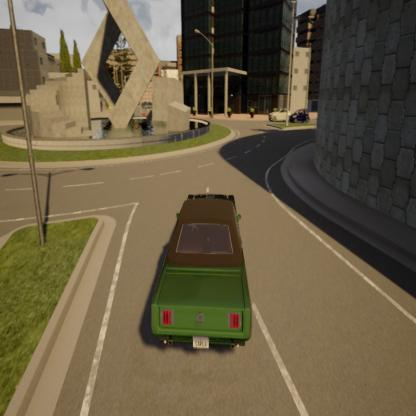Cars: (138, 179, 258, 367), (289, 106, 312, 127), (266, 105, 291, 123)
